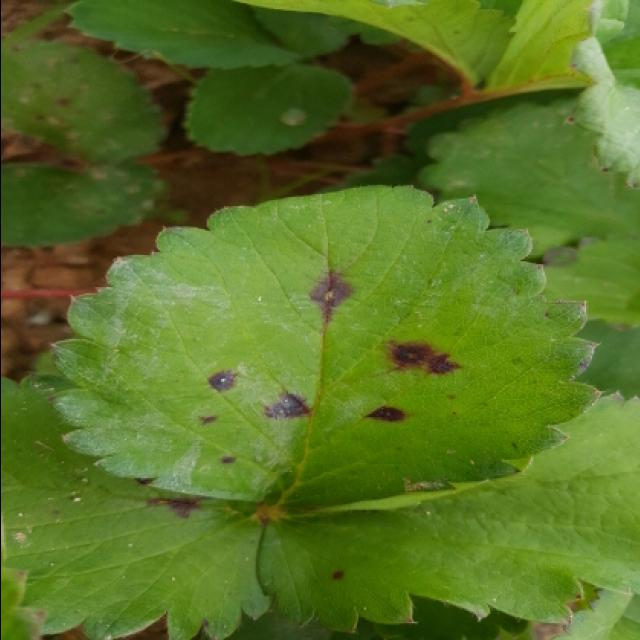Leaf Spot: (47, 182, 602, 515), (254, 388, 640, 634), (2, 359, 271, 638), (2, 32, 168, 166)
